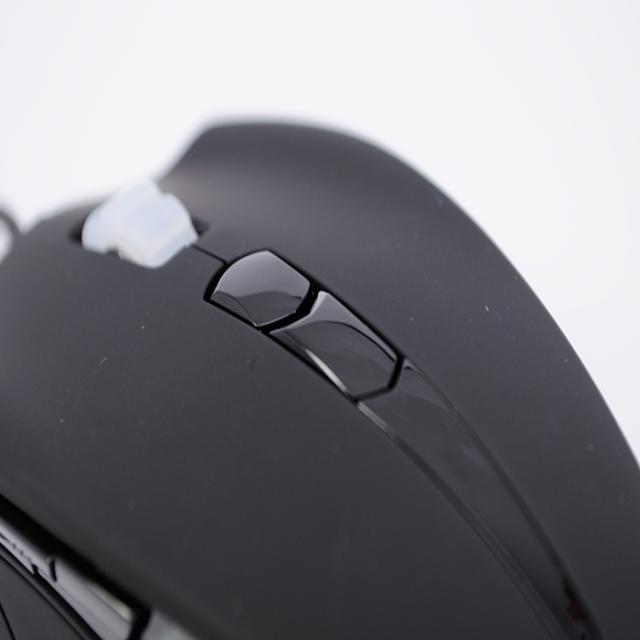Computer-mouse: (2, 120, 636, 638)
